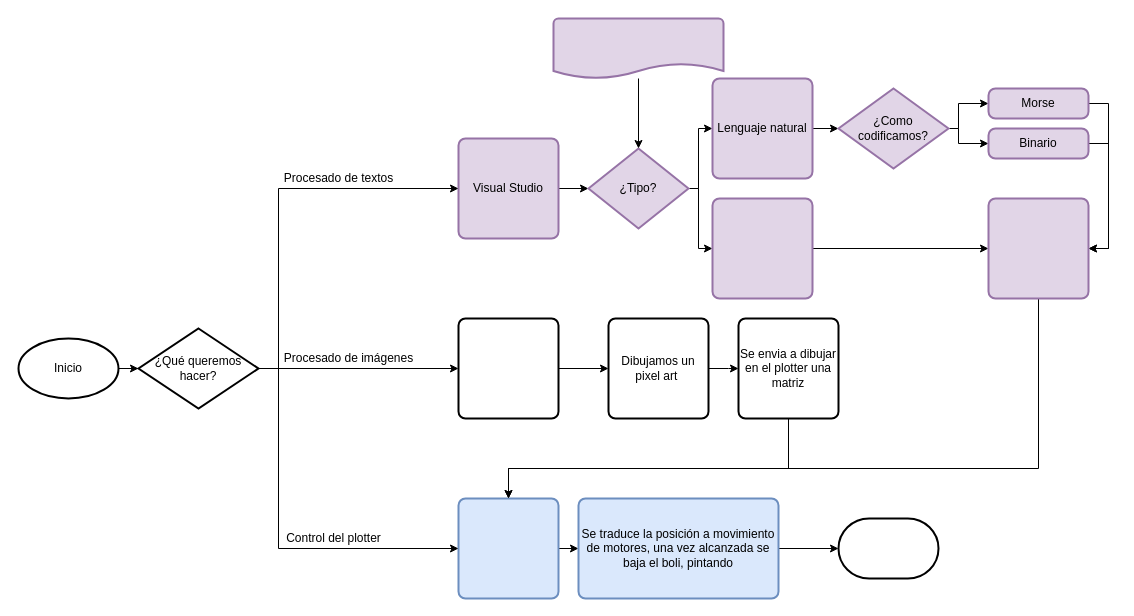
Image size: 1134x616. Some labels were removed from this diagram. The shapes that lost their labels are listed below. From the top down, each one's centre as x and y in pixels, then its label:
At (638,48): "TextoParaRepresentar.txt.".
At (762,248): "Musical".
At (1038,248): "Se envía a dibujar una matriz".
At (508,368): "Processing".
At (508,548): "Arduino".
At (888,548): "Final".
